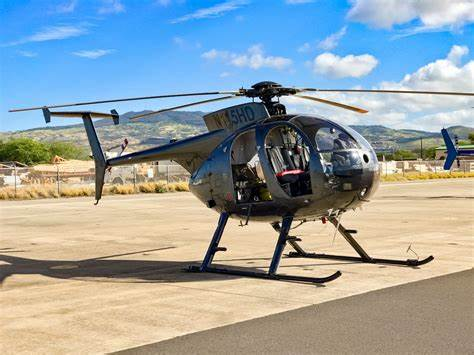Aeronef_militaire: (4, 74, 474, 297)
